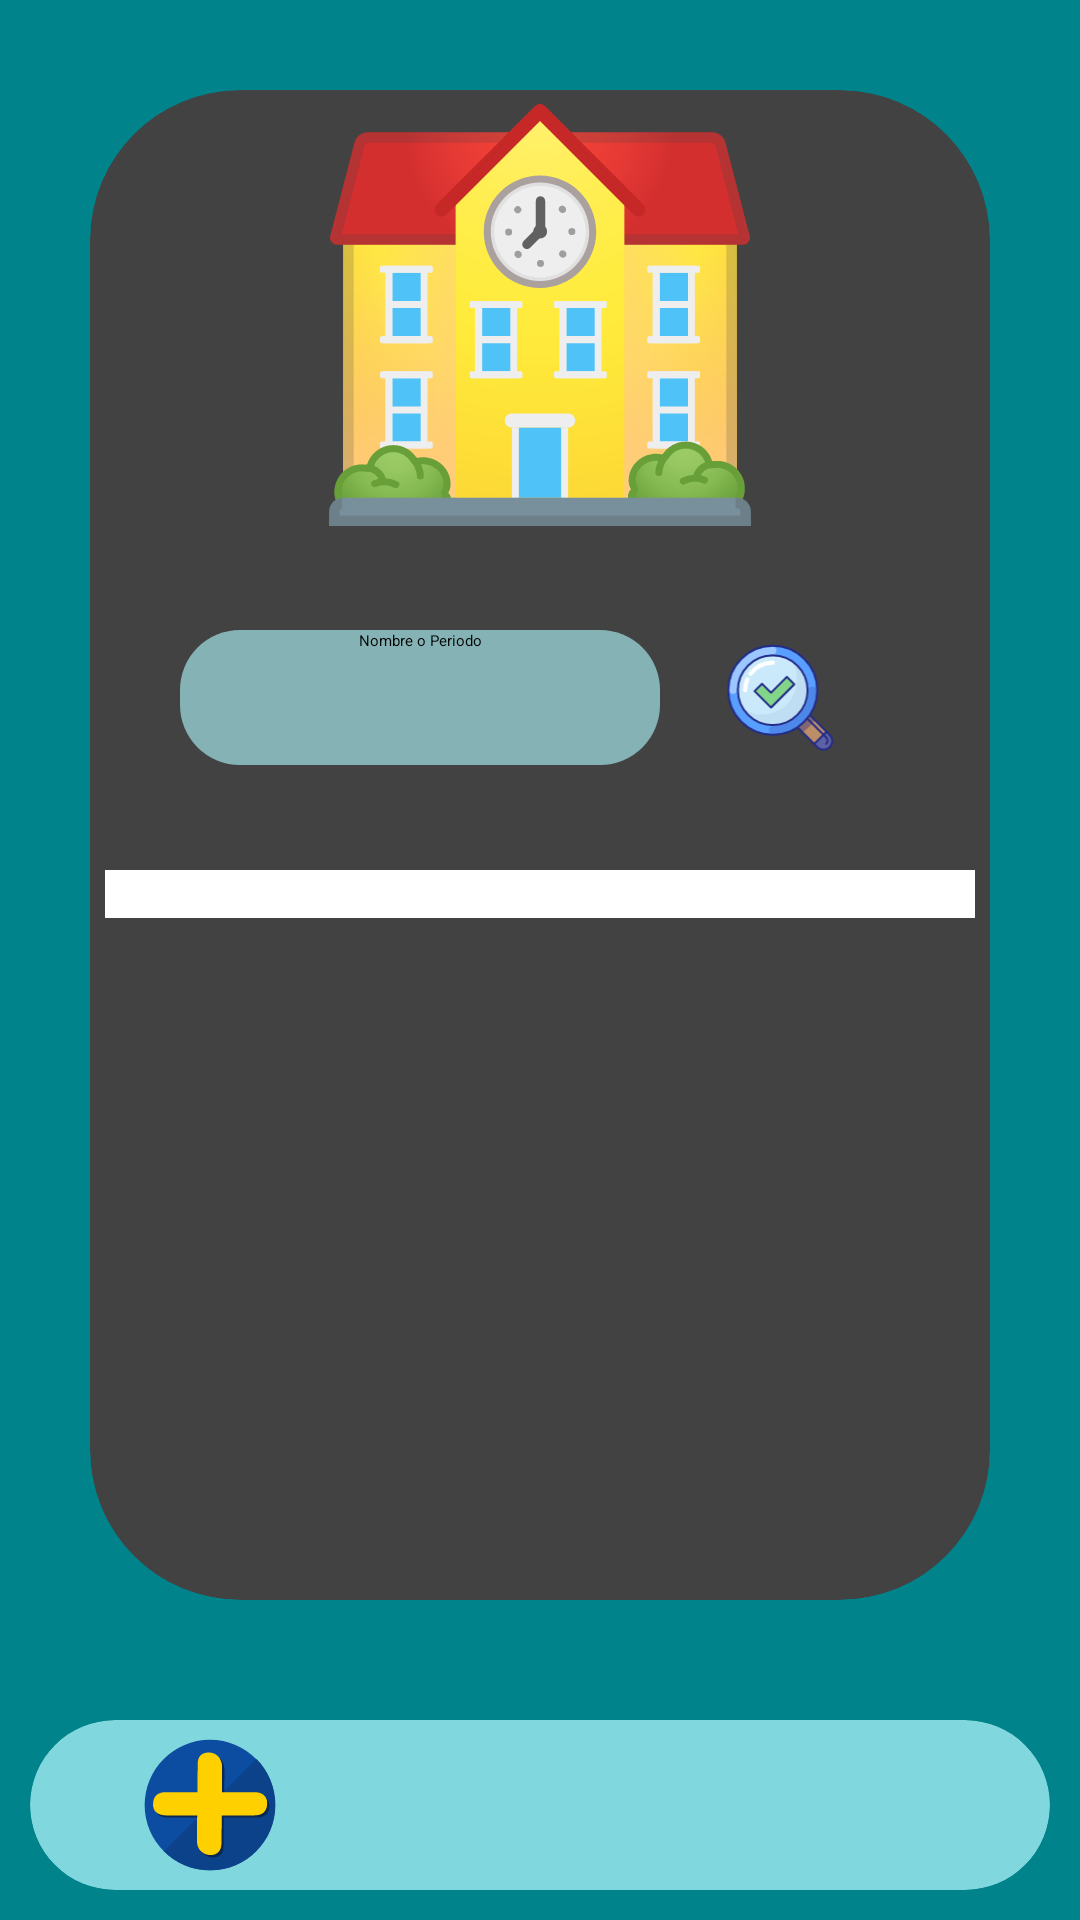

Named icons in this screenshot (1080x1920) and their bounding boxes, (x1, y1, x2, y2):
lupa: (727, 645, 833, 751)
mas: (144, 1739, 276, 1871)
